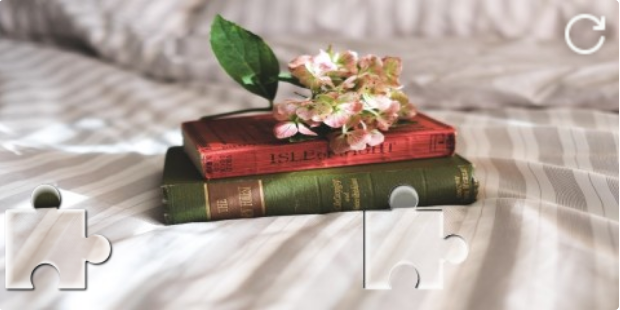target: (364, 184, 468, 290)
